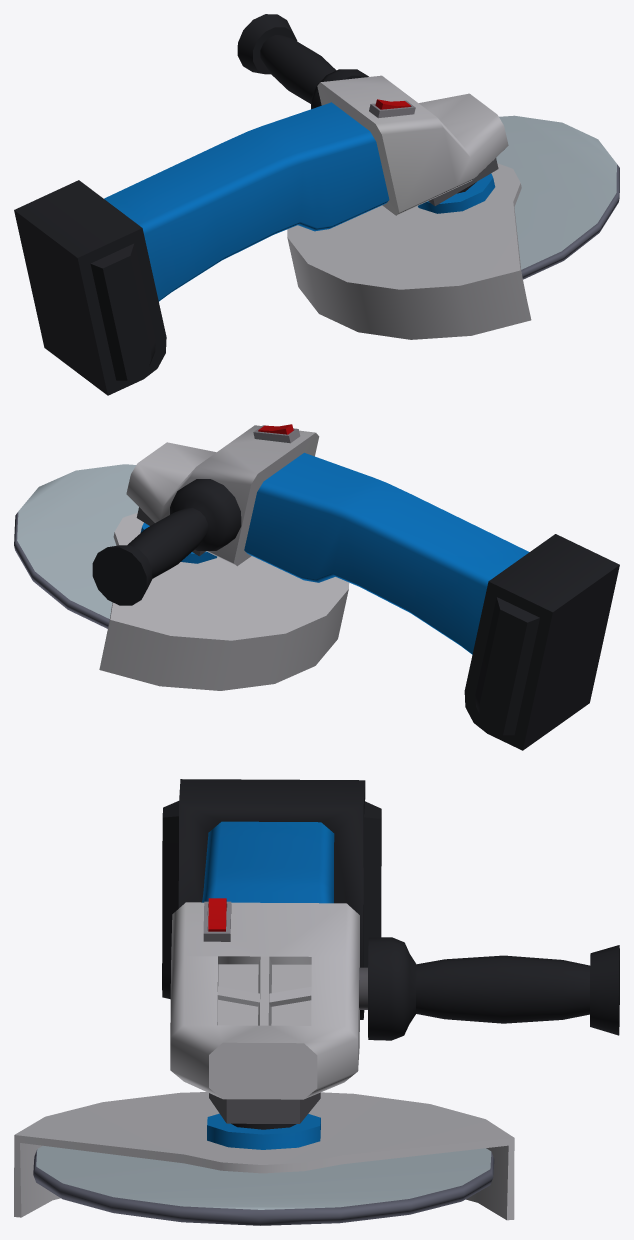
The model's file is Grinder.fbx.
3 views of the same model, one above another, from view 1: azimuth 30°, elevation 25°; view 2: azimuth 150°, elevation 25°; view 3: azimuth 270°, elevation 25° (orthographic). The views are drawn at different scales.
Visible parts, largest first — view 1: Grinder; view 2: Grinder; view 3: Grinder.
Part boxes in pixels (x1,y1,x2,y2): Grinder: [14, 14, 619, 395]; Grinder: [14, 424, 619, 750]; Grinder: [14, 779, 619, 1225].
Bounding box in the file's own units: 62.5 × 41.91 × 23.27.
